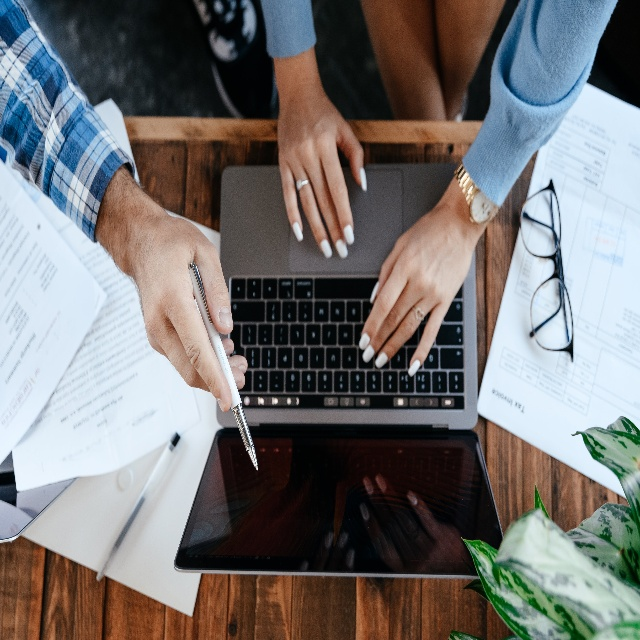Gafas: (518, 183, 575, 362)
Sin_guantes: (144, 207, 246, 412), (360, 209, 477, 380), (278, 92, 368, 262)
